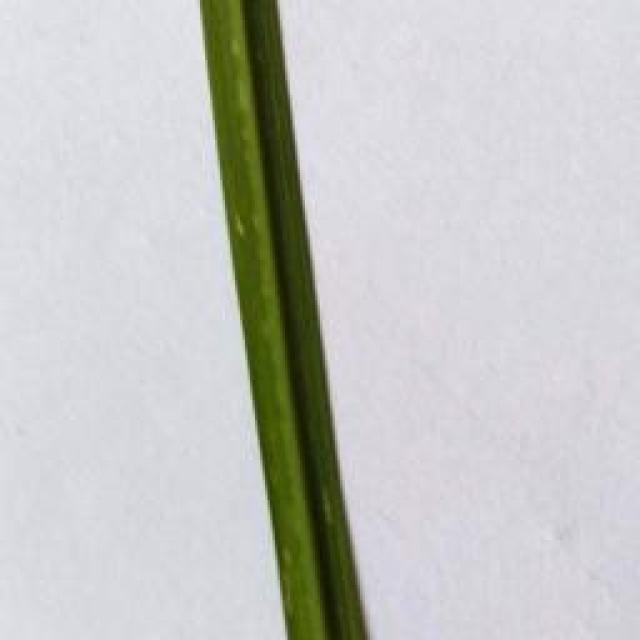Healthy-Plant: (198, 0, 375, 640)
